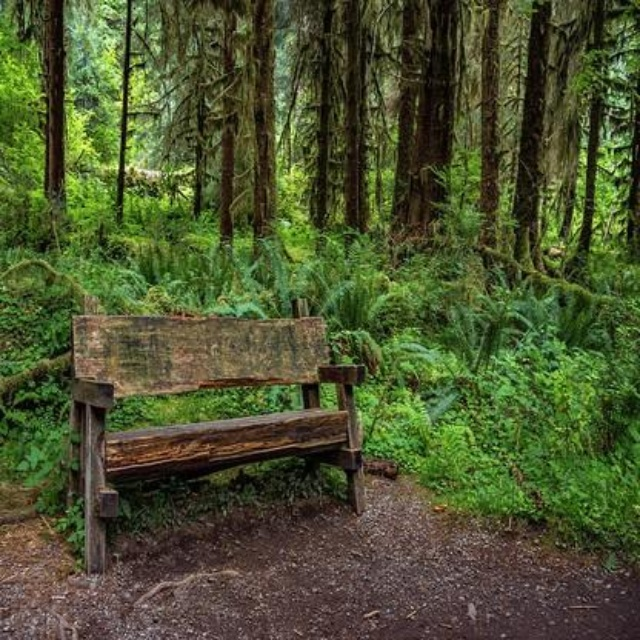obstacle: (52, 303, 391, 572)
